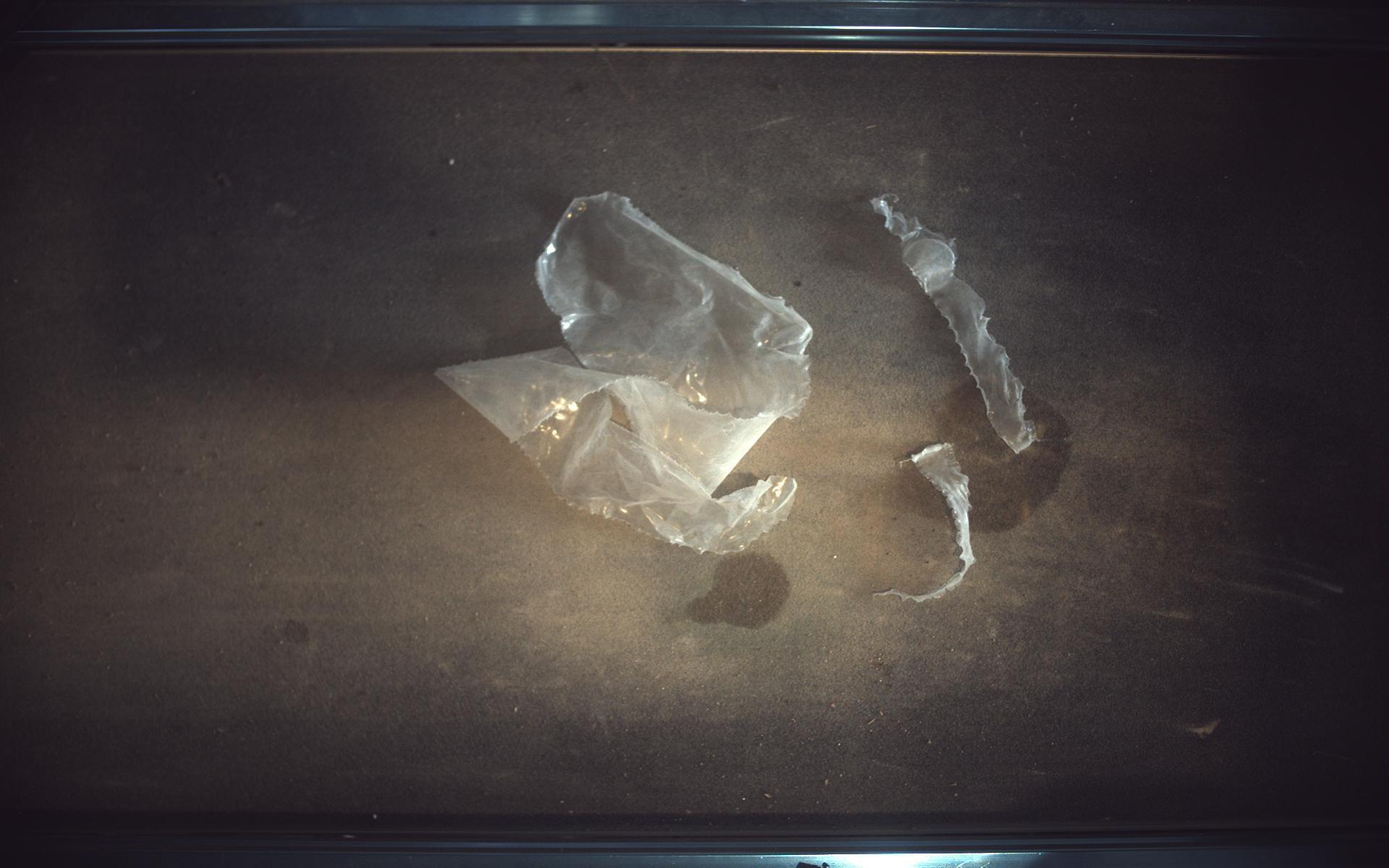general_w: (438, 192, 813, 554), (873, 193, 1037, 454), (876, 443, 977, 603)
